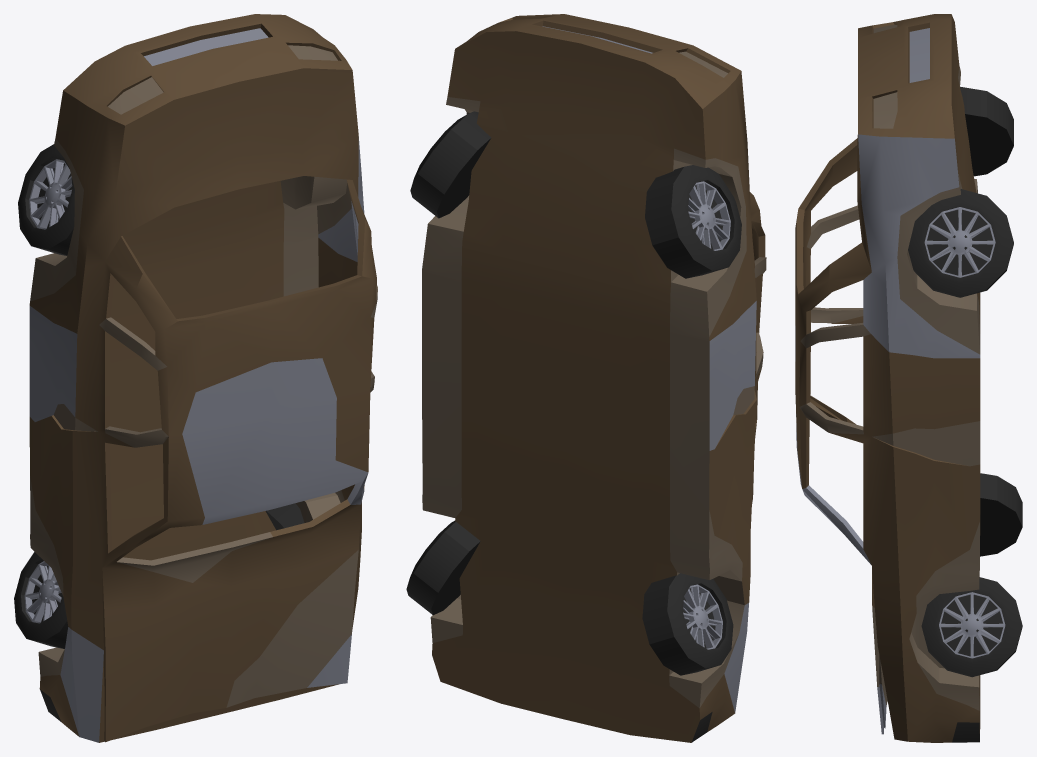
The model's file is crash.obj.
3 renders of one model, left to right at view 1: azimuth 30°, elevation 25°; view 2: azimuth 150°, elevation 25°; view 3: azimuth 270°, elevation 25°, orthographic. The views are drawn at different scales.
Bounding box in the file's own units: 2.12 × 4.42 × 1.41.
1 material, 1 textured.
